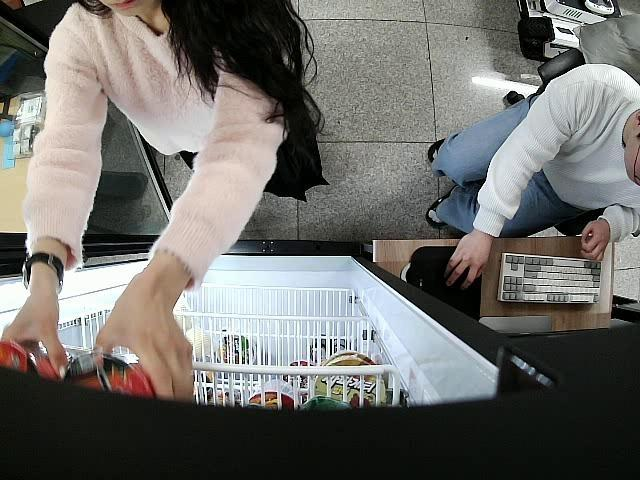02_shinRamen_S: (66, 352, 156, 401), (4, 334, 63, 384)
